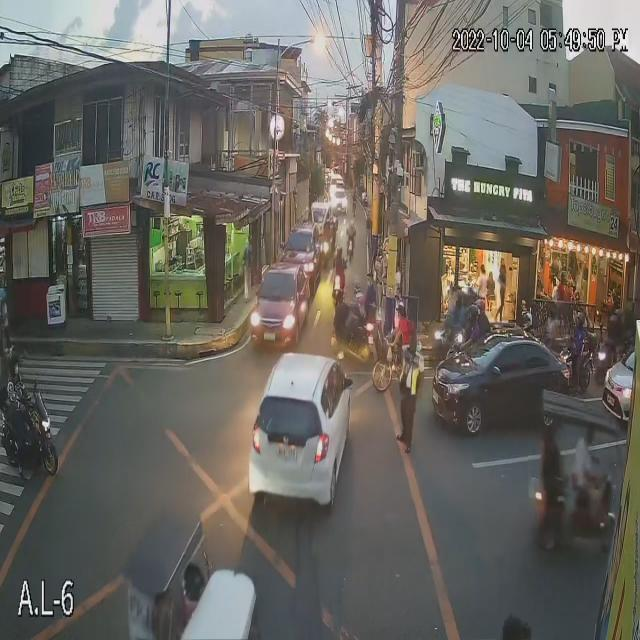helmet: (518, 309, 539, 330), (7, 349, 20, 379), (349, 279, 366, 299), (477, 297, 493, 318), (574, 306, 588, 326), (467, 302, 477, 323), (336, 245, 344, 258), (349, 218, 354, 227)
motorcycle: (0, 397, 58, 483), (330, 303, 382, 368), (554, 345, 596, 397), (331, 276, 346, 305), (346, 238, 360, 259)
rider: (3, 346, 24, 432), (347, 277, 365, 331), (361, 267, 378, 323), (476, 292, 496, 338), (520, 305, 540, 351), (574, 305, 593, 350), (466, 302, 480, 351), (334, 245, 346, 276), (346, 217, 357, 243)
